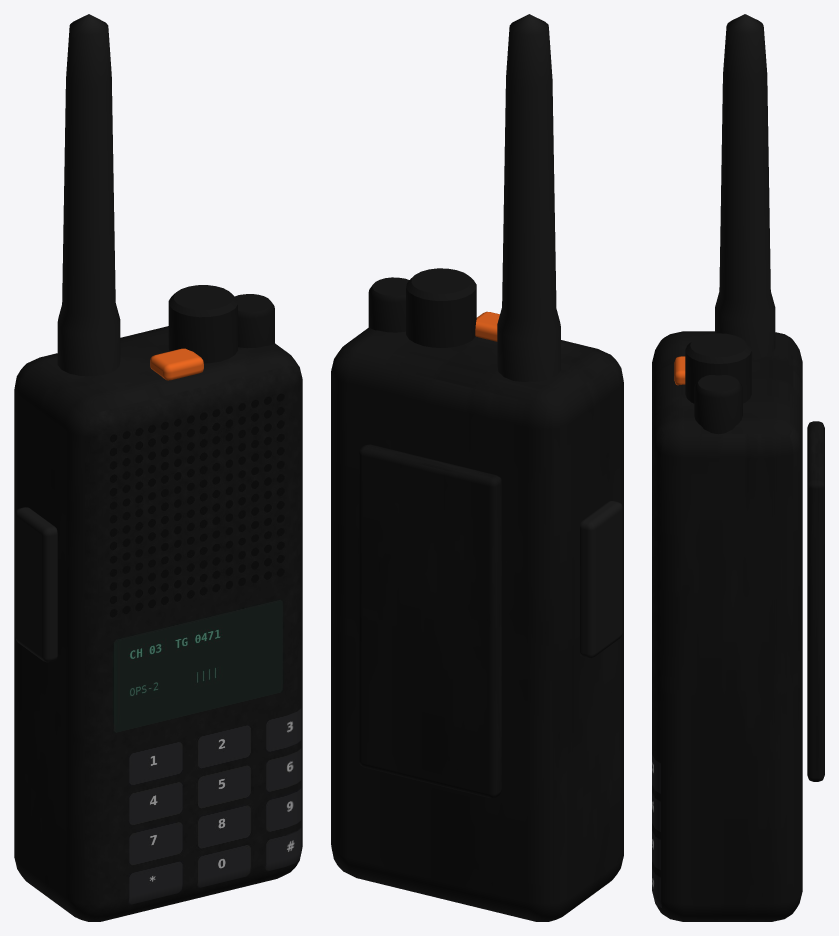
Rendered from PoliceRadio.obj.
The picture shows the model from 3 angles, left to right: view 1: azimuth 30°, elevation 25°; view 2: azimuth 150°, elevation 25°; view 3: azimuth 270°, elevation 25°; orthographic projection. The views are drawn at different scales.
Visible parts, largest first — view 1: RadioAtlas; view 2: RadioAtlas; view 3: RadioAtlas.
Part boxes in pixels (x1,y1,x2,y2): RadioAtlas: (14,14,302,921); RadioAtlas: (331,14,623,921); RadioAtlas: (652,14,824,921).
Bounding box in the file's own units: 0.0612 × 0.208 × 0.039.
1 material, 1 textured.
